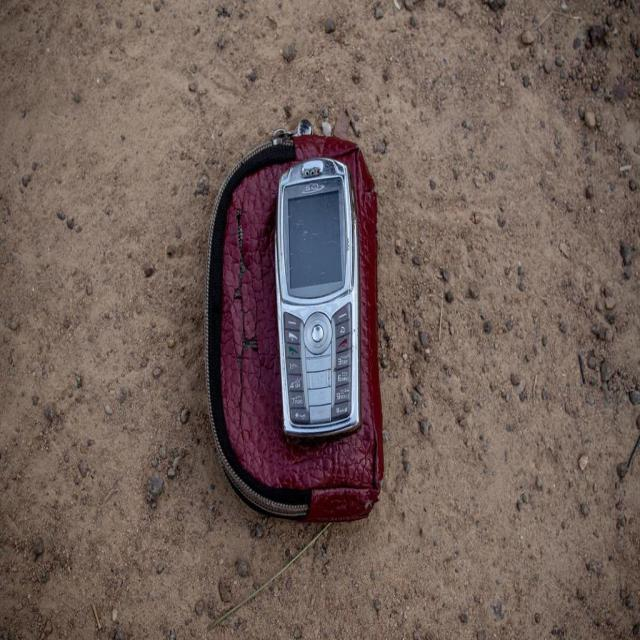Phone: (274, 158, 360, 438)
